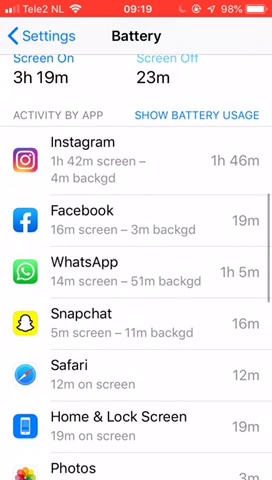app: (8, 132, 266, 187), (8, 190, 266, 245), (10, 252, 266, 291), (11, 302, 267, 341), (12, 353, 268, 392), (10, 407, 266, 446), (8, 405, 264, 444)
